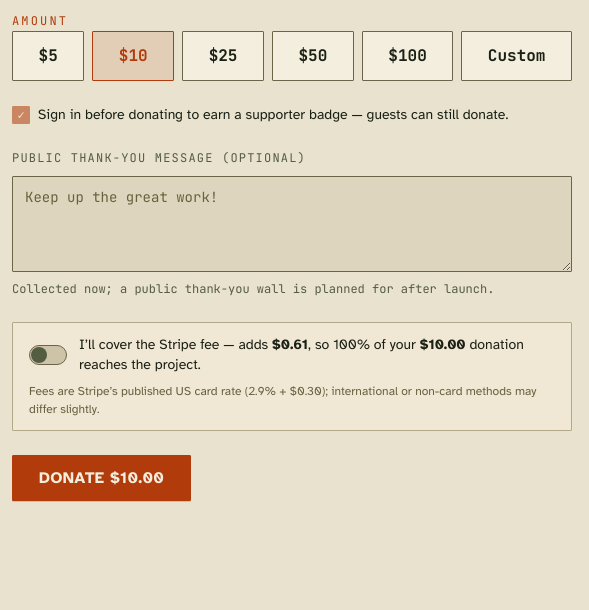
DonationForm › validates a custom amount below the minimum
Click the button "Custom". click: click(517, 56)
box: [461,31,572,81]
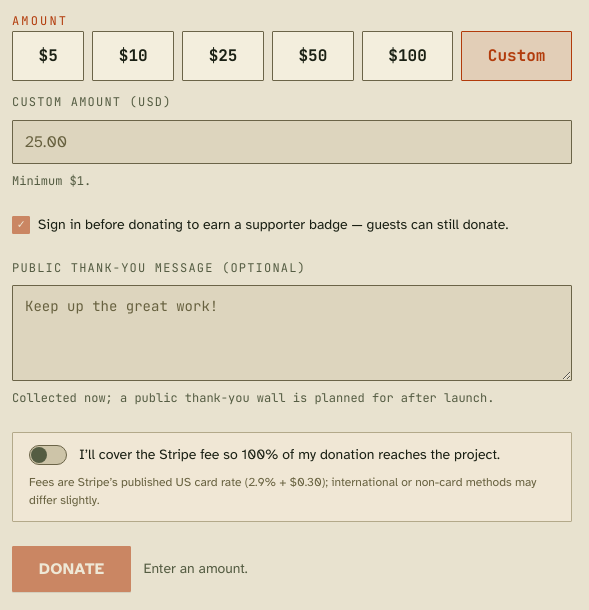
Type "0.50" into the field labelled "Custom amount (USD)". click: (292, 142)
box: [12,120,572,164]
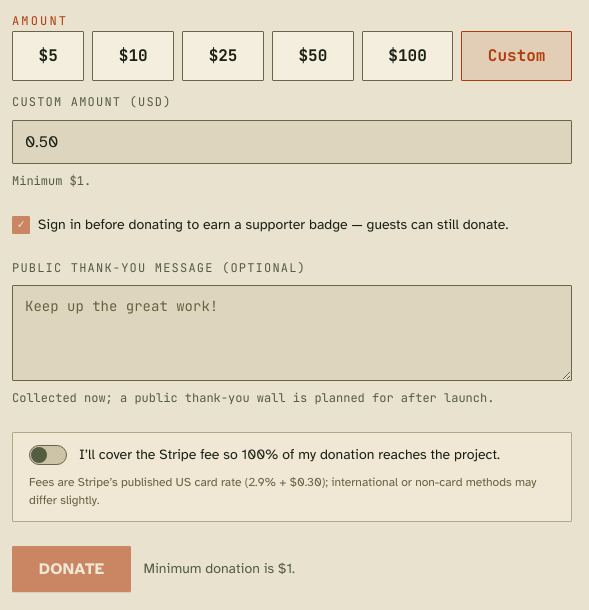
Leave the field labelled "Custom amount (USD)", box [12,120,572,164]
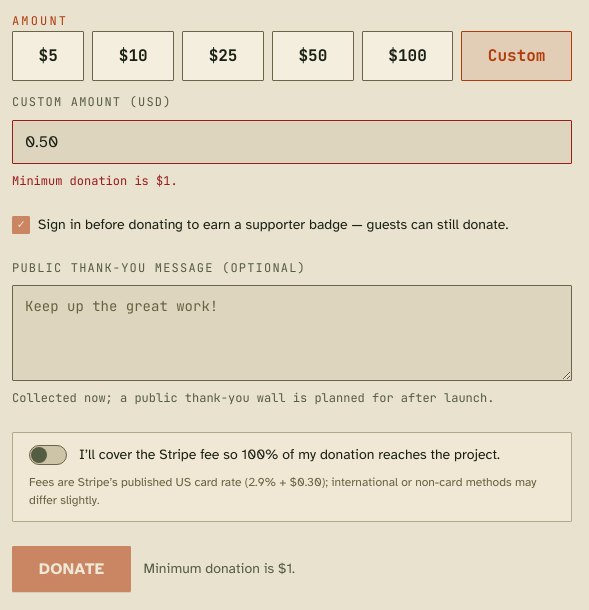
Result: the button "Donate" is disabled at [12,546,132,592]
Result: the text "Minimum donation is $1." below "Custom amount (USD)" is shown at [12,173,178,189]
